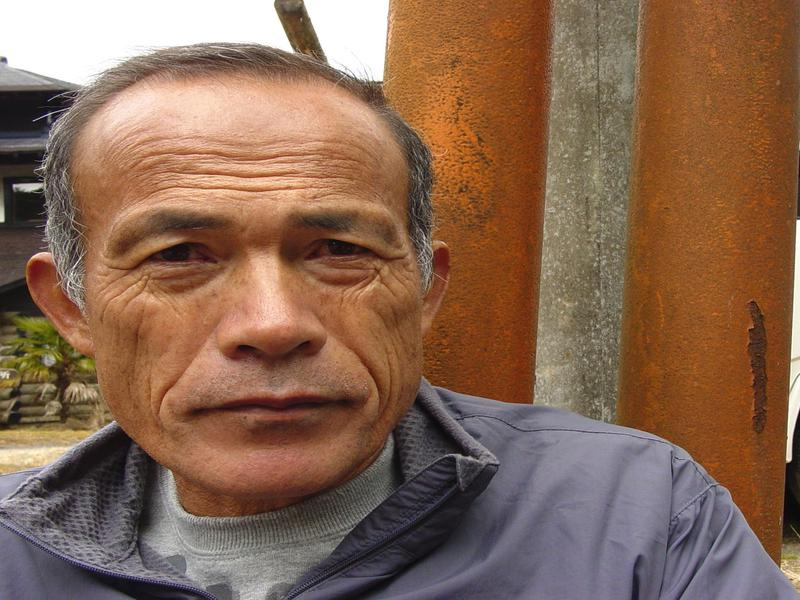person: (1, 45, 765, 600)
